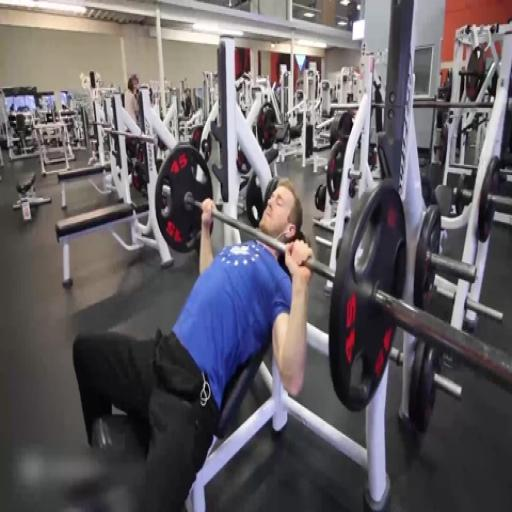exercise: (68, 175, 317, 511)
